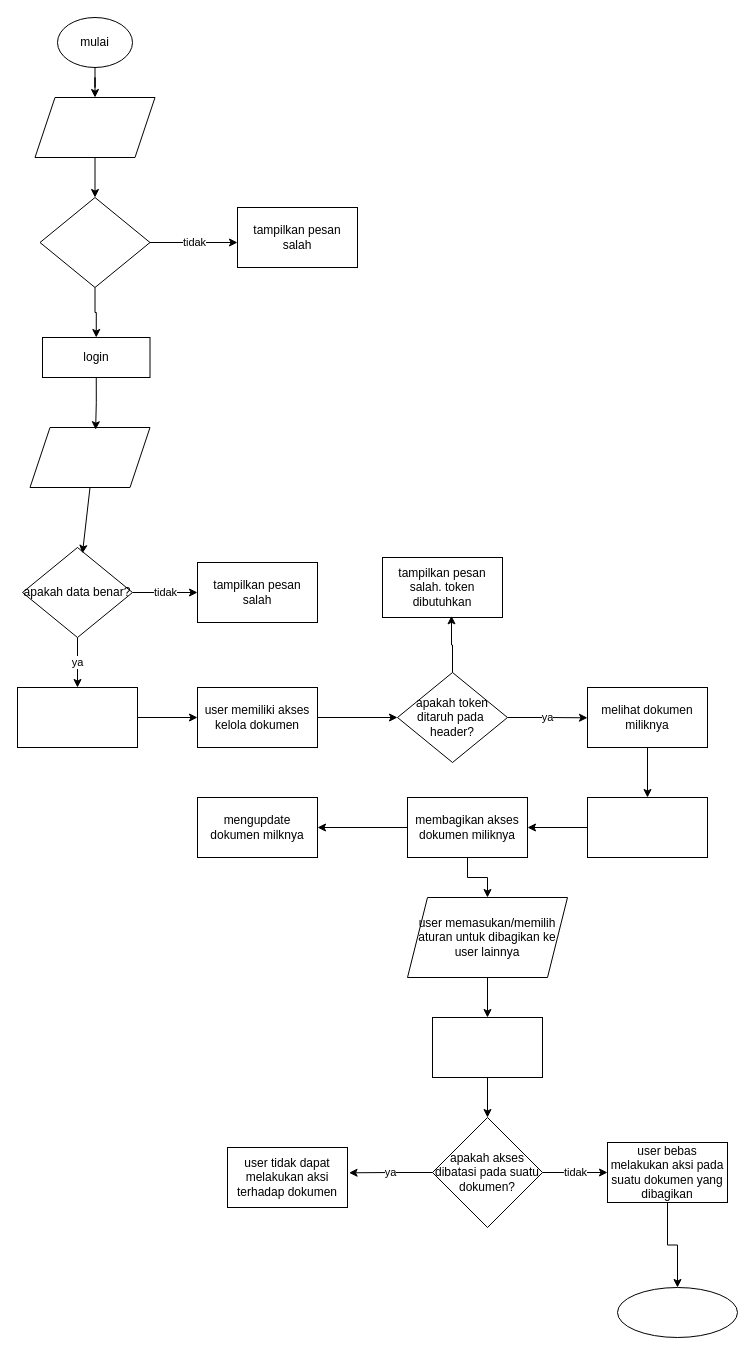
This 755x1355 diagram has some shape labels left out. Here are the shapes that lost their labels. From the top down, the box of each, then its label:
(34, 96, 155, 158): user memasukan data registrasi
(39, 196, 150, 288): apakah data valid?
(29, 426, 150, 488): user memasukan data login
(16, 686, 138, 748): generate token jwt
(586, 796, 708, 858): menghapus dokumen milknya
(432, 1016, 542, 1078): user lainnya mendapatkan akses
(616, 1286, 738, 1338): end
